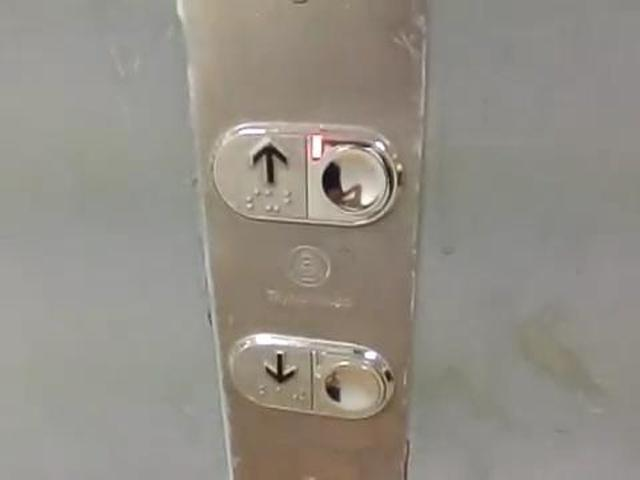down: (223, 327, 398, 424)
up: (204, 114, 404, 232)
